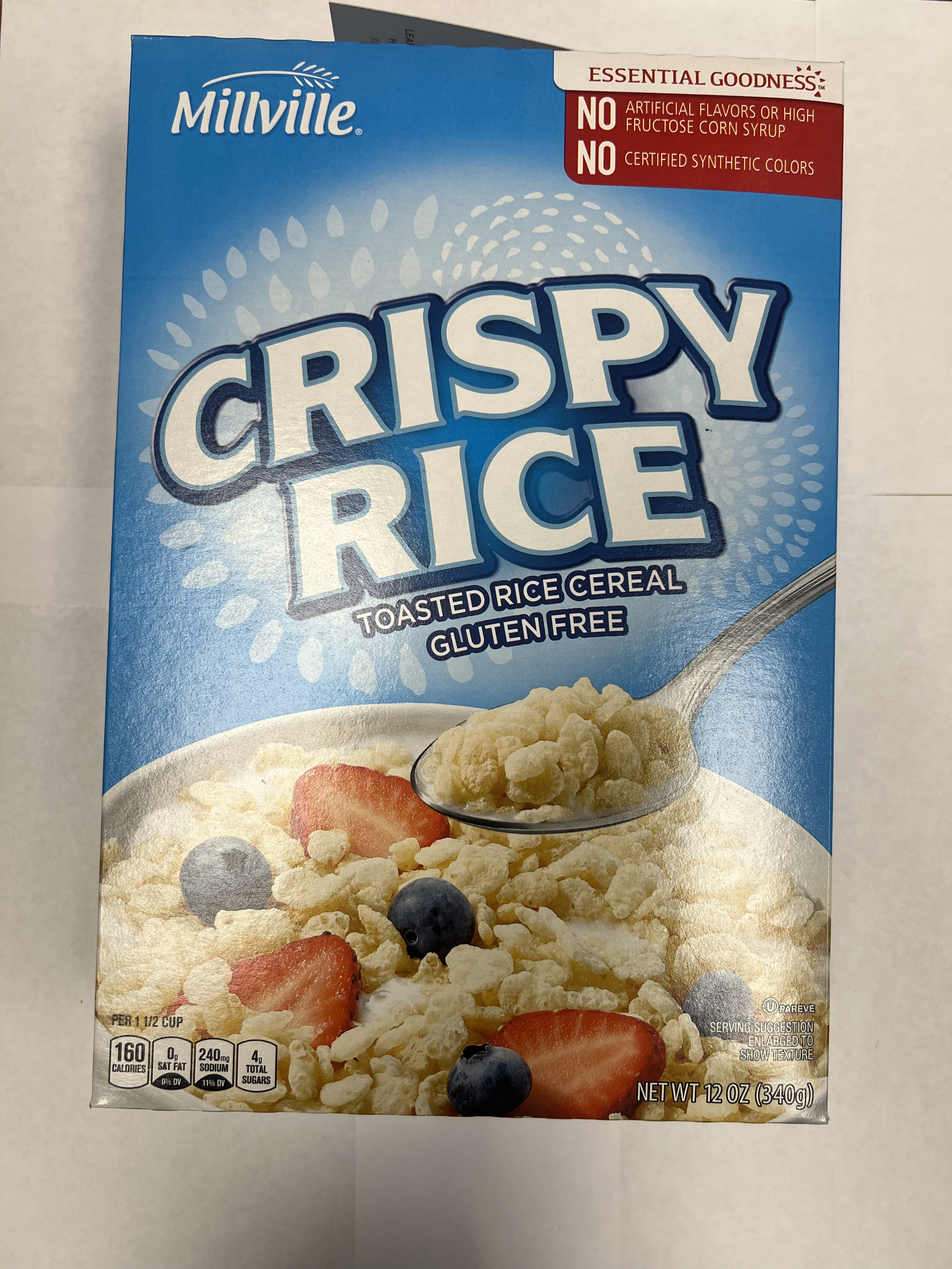packaged: (85, 36, 851, 1139)
